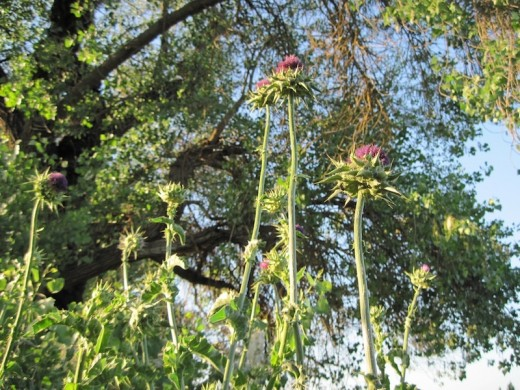thistle: (328, 141, 393, 202), (277, 57, 315, 104)
